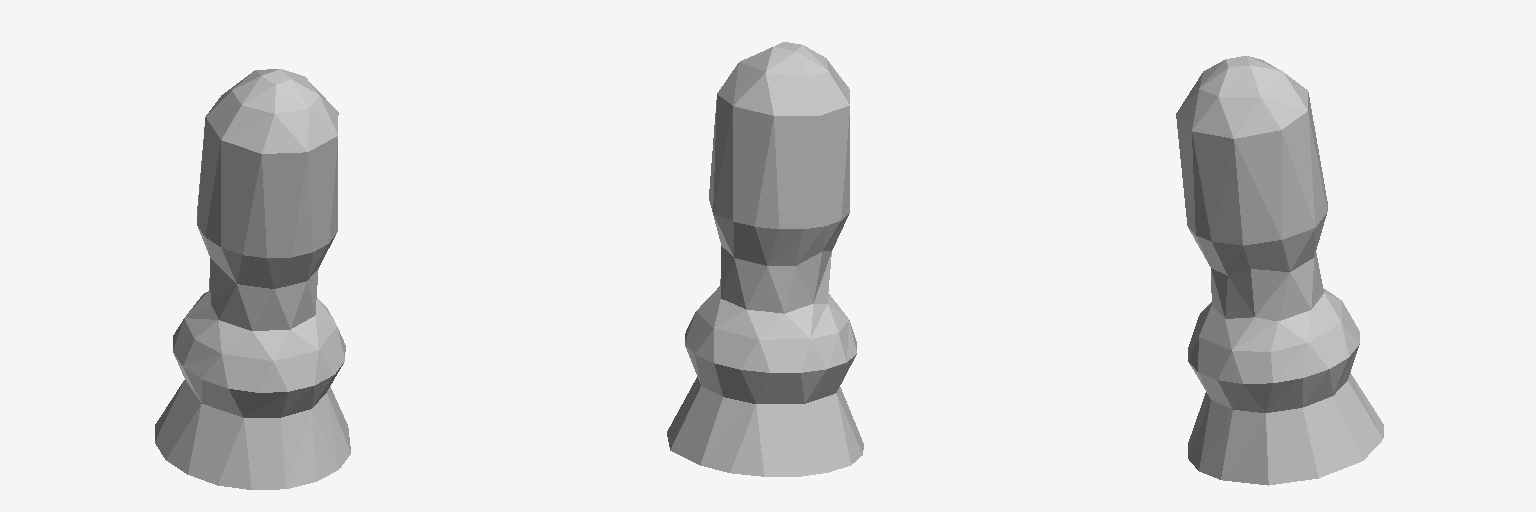
Rendered from light_13.obj.
The picture shows the model from 3 angles: view 1: azimuth 30°, elevation 25°; view 2: azimuth 150°, elevation 25°; view 3: azimuth 270°, elevation 25°; orthographic projection.
Visible parts, largest first — view 1: Cylinder001.012_Untitled.021; view 2: Cylinder001.012_Untitled.021; view 3: Cylinder001.012_Untitled.021.
Boxes of the visible parts, <box> form: Cylinder001.012_Untitled.021: <box>155,69,350,489</box>; Cylinder001.012_Untitled.021: <box>667,42,863,476</box>; Cylinder001.012_Untitled.021: <box>1176,56,1383,485</box>.
Size of the model in its own units: 0.2348 by 0.5064 by 0.2439.